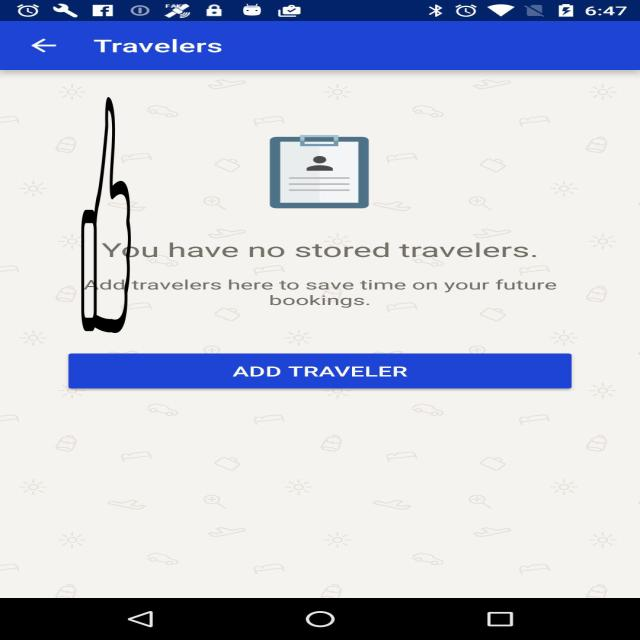privacy zuckering: (80, 97, 132, 333)
